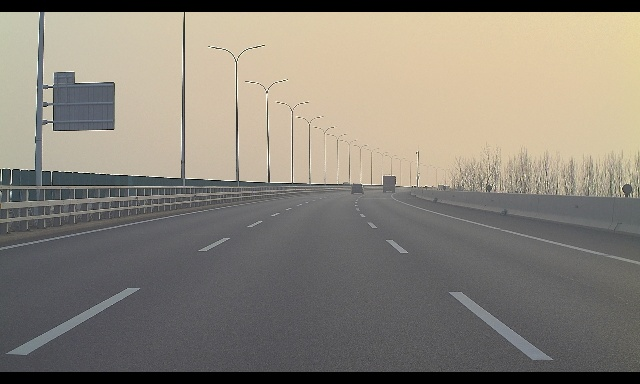car: (351, 183, 364, 195)
truck: (383, 176, 396, 193)
